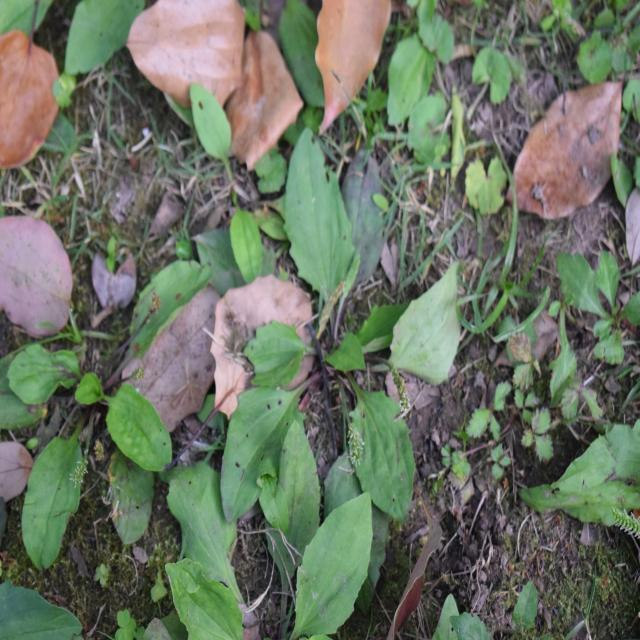plantain: (230, 159, 430, 513), (1, 271, 190, 545)
